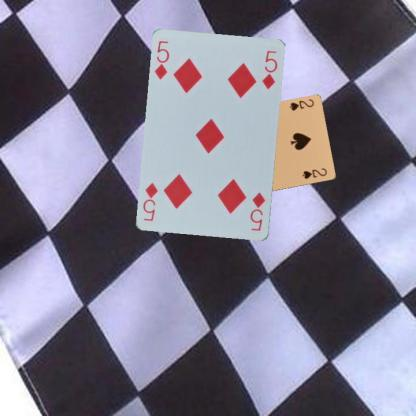2s: (286, 97, 315, 112)
5d: (248, 190, 267, 232), (152, 39, 170, 81)
